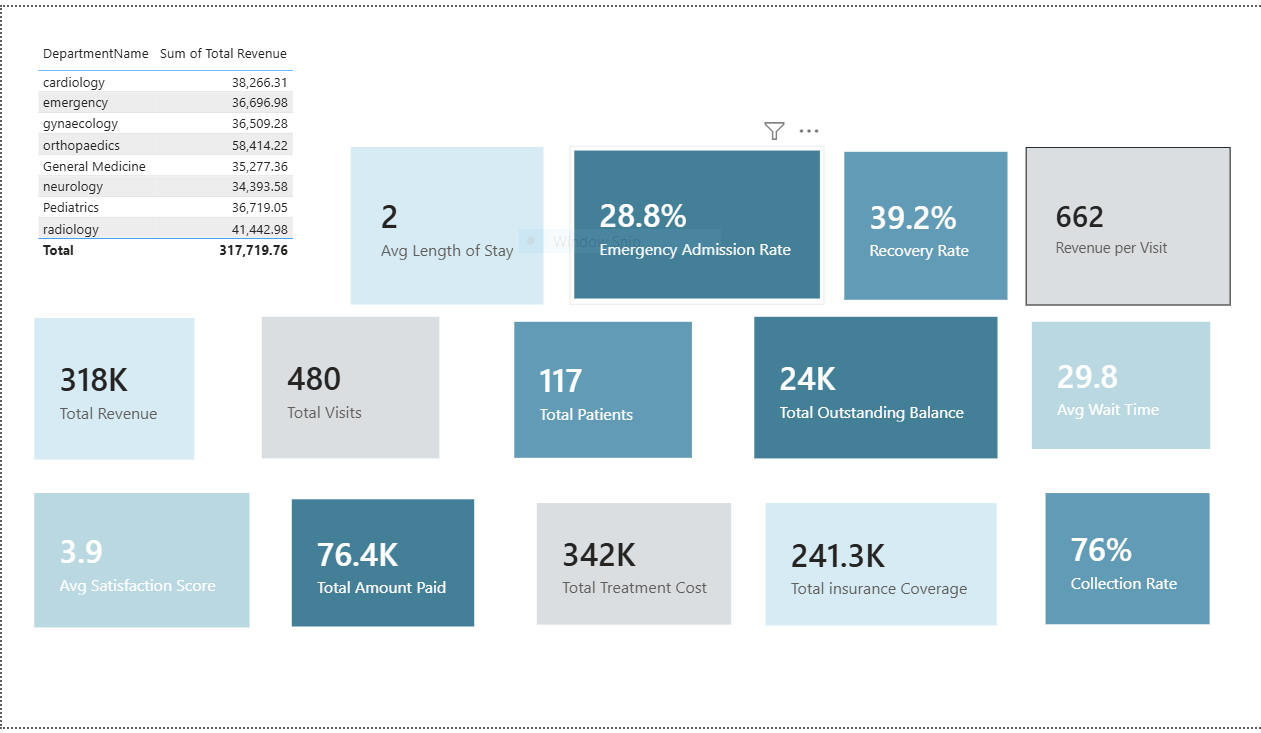

This screenshot's page, from the dashboard's own definition file:
{"tool":"powerbi","page":{"name":"Page 1","canvas":[1280,720],"ordinal":0},"visuals":[{"type":"tableEx","fields":{"Values":["Dim_Departments.DepartmentName","Sum(RIverside General Hospital Visits.Total Revenue)"]},"box":[30.2,30.2,279.9,279.9],"z":0},{"type":"cardVisual","fields":{"Data":["Dax Measure.Total Revevue"]},"box":[28,306,170,151],"z":1000},{"type":"cardVisual","fields":{"Data":["Dax Measure.Total Visits"]},"box":[255,305,187,151],"z":2000},{"type":"cardVisual","fields":{"Data":["Dax Measure.Total Patients"]},"box":[507.8,310,187.8,146.7],"z":3000},{"type":"cardVisual","fields":{"Data":["Dax Measure.Total Outstanding Balance"]},"box":[747,305,253,151],"z":4000},{"type":"cardVisual","fields":{"Data":["Dax Measure.Avg Wait Time"]},"box":[1024.4,310,188.9,137.8],"z":5000},{"type":"cardVisual","fields":{"Data":["Dax Measure.Avg Satisfaction Score"]},"box":[27.8,481.1,225.6,144.4],"z":6000},{"type":"cardVisual","fields":{"Data":["Dax Measure.Total Amount Paid"]},"box":[285.6,487.8,192.2,137.8],"z":7000},{"type":"cardVisual","fields":{"Data":["Dax Measure.Total Treatment Cost"]},"box":[530,491.1,204.4,131.1],"z":8000},{"type":"cardVisual","fields":{"Data":["Dax Measure.Total insurance Coverage"]},"box":[758.9,491.1,241.1,132.2],"z":9000},{"type":"cardVisual","fields":{"Data":["Dax Measure.Collection Rate"]},"box":[1038.9,481.1,174.4,141.1],"z":10000},{"type":"cardVisual","fields":{"Data":["Dax Measure.Avg Length of Stay"]},"box":[348.8,140,192.5,157.5],"z":11000},{"type":"cardVisual","fields":{"Data":["Dax Measure.Emergency Admission Rate"]},"box":[567.5,138.8,255,158.8],"z":12000},{"type":"cardVisual","fields":{"Data":["Dax Measure.Recovery Rate"]},"box":[837.5,140,173.8,158.8],"z":13000},{"type":"cardVisual","fields":{"Data":["Dax Measure.Revenue per Visit"]},"box":[1023.8,140,205,158.8],"z":14000}]}

Visuals, with their boxes on the page's 1280x720 design canvas (x1, y1, x2, y2). These are canvas units, not pixel positions in the 1261x733 screenshot, which may show the page scaled, cropped or inside an application window:
tableEx - Dim_Departments.DepartmentName x Sum(RIverside General Hospital Visits.Total Revenue): locate(30, 30, 310, 310)
cardVisual - Dax Measure.Total Revevue: locate(28, 306, 198, 457)
cardVisual - Dax Measure.Total Visits: locate(255, 305, 442, 456)
cardVisual - Dax Measure.Total Patients: locate(508, 310, 696, 457)
cardVisual - Dax Measure.Total Outstanding Balance: locate(747, 305, 1000, 456)
cardVisual - Dax Measure.Avg Wait Time: locate(1024, 310, 1213, 448)
cardVisual - Dax Measure.Avg Satisfaction Score: locate(28, 481, 253, 626)
cardVisual - Dax Measure.Total Amount Paid: locate(286, 488, 478, 626)
cardVisual - Dax Measure.Total Treatment Cost: locate(530, 491, 734, 622)
cardVisual - Dax Measure.Total insurance Coverage: locate(759, 491, 1000, 623)
cardVisual - Dax Measure.Collection Rate: locate(1039, 481, 1213, 622)
cardVisual - Dax Measure.Avg Length of Stay: locate(349, 140, 541, 298)
cardVisual - Dax Measure.Emergency Admission Rate: locate(568, 139, 822, 298)
cardVisual - Dax Measure.Recovery Rate: locate(838, 140, 1011, 299)
cardVisual - Dax Measure.Revenue per Visit: locate(1024, 140, 1229, 299)
